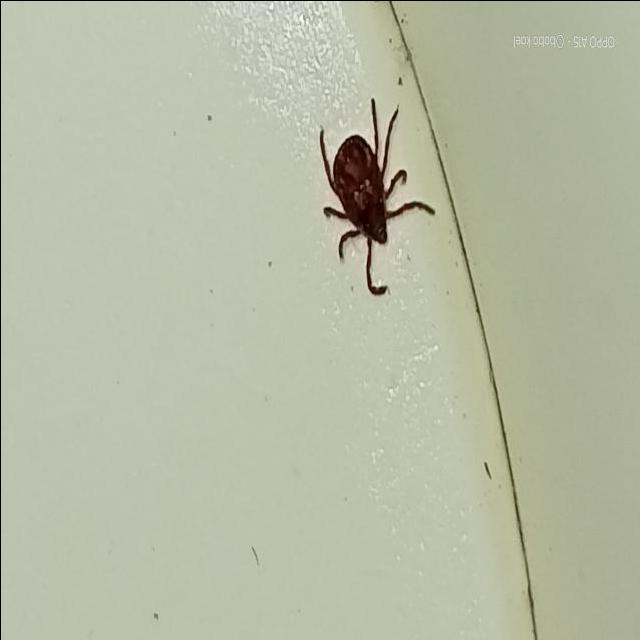Rhipicephalus Sanguineus-F: (318, 96, 434, 295)
